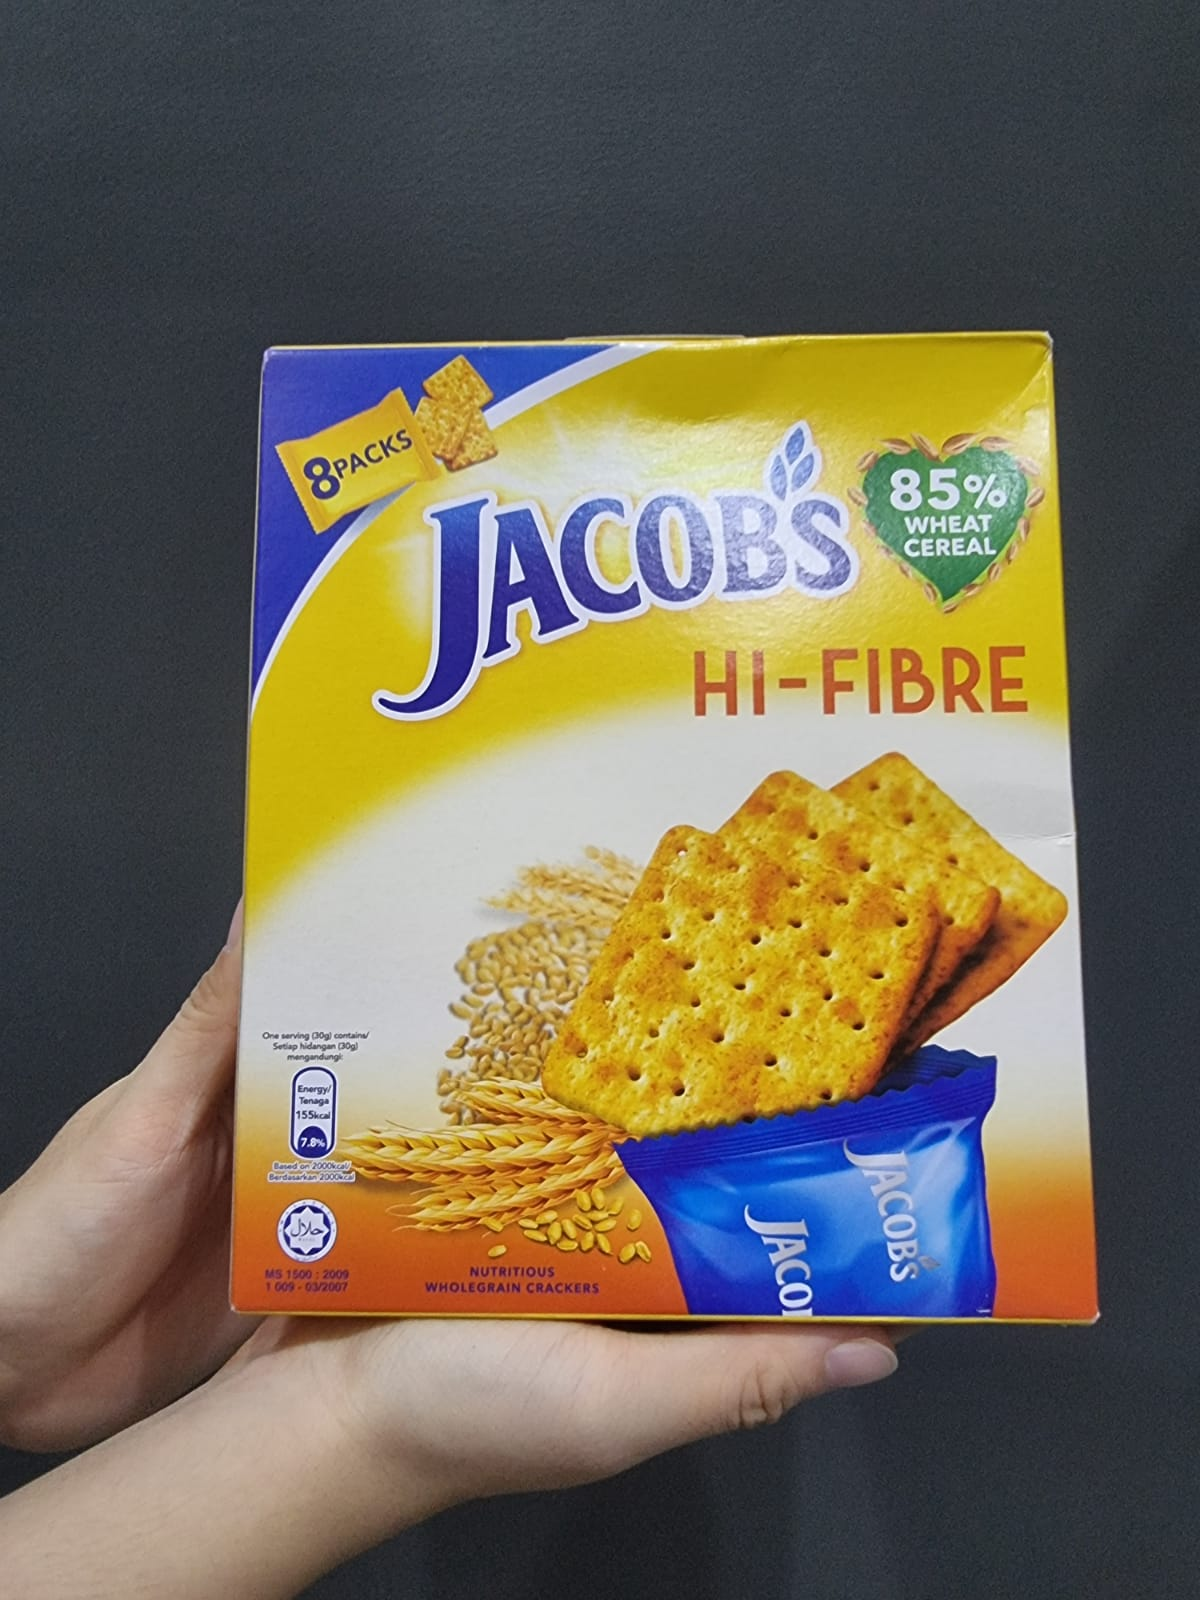Biscuits: (277, 351, 1064, 1301)
